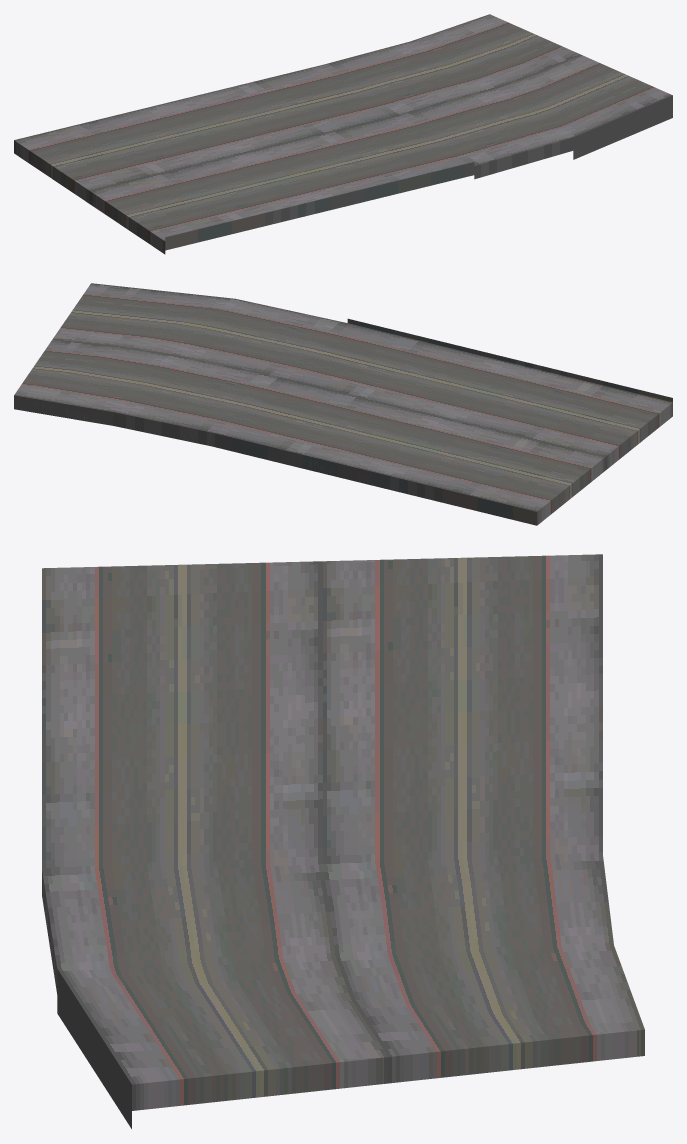
The model's file is lodroads_sfw03.obj.
3 renders of one model, top to bottom at view 1: azimuth 30°, elevation 25°; view 2: azimuth 150°, elevation 25°; view 3: azimuth 270°, elevation 25°, orthographic. The views are drawn at different scales.
Visible parts, largest first — view 1: LODroads_sfw03; view 2: LODroads_sfw03; view 3: LODroads_sfw03.
Boxes of the visible parts, bbox=[...] form: LODroads_sfw03: bbox=[14, 14, 672, 254]; LODroads_sfw03: bbox=[14, 283, 672, 525]; LODroads_sfw03: bbox=[42, 554, 644, 1128].
Bounding box in the file's own units: 105 × 4.89 × 50.7.
1 material, 1 textured.
